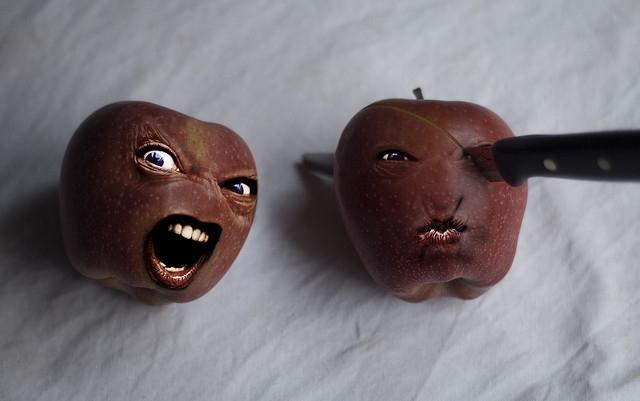apple: (332, 87, 529, 303), (58, 99, 258, 308)
